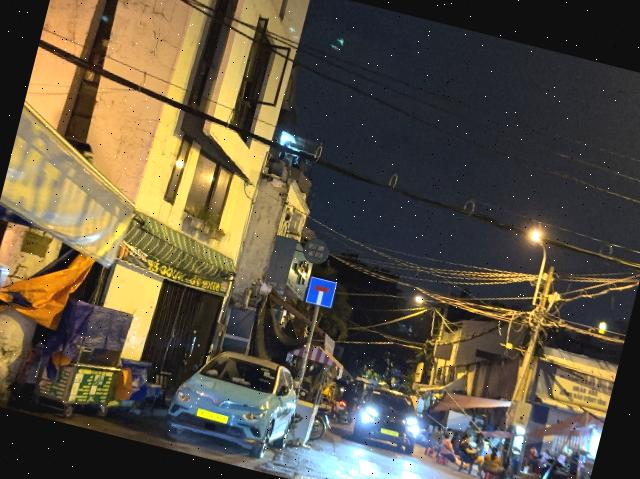duong-cut: (306, 276, 338, 308)
